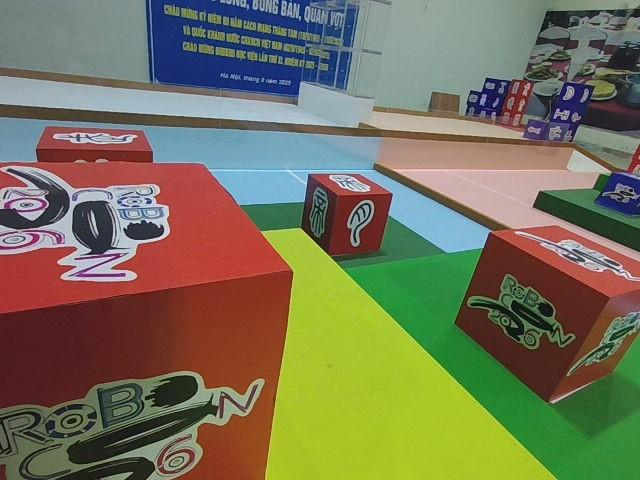R1: (1, 163, 294, 480), (456, 226, 640, 401)
R2 Fake: (302, 171, 393, 260)
